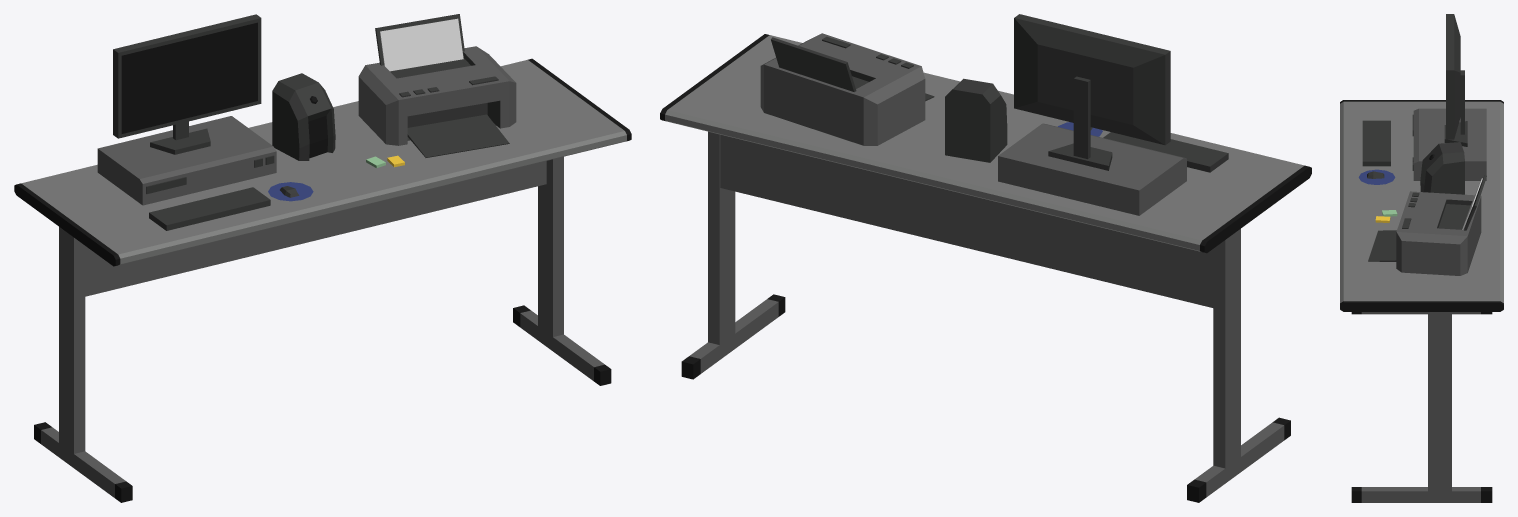
The model's file is DetentionDesk.glb.
3 views of the same model, side by side, from view 1: azimuth 30°, elevation 25°; view 2: azimuth 150°, elevation 25°; view 3: azimuth 270°, elevation 25° (orthographic). The views are drawn at different scales.
Visible parts, largest first — view 1: DetentionDesk; view 2: DetentionDesk; view 3: DetentionDesk.
Part boxes in pixels (x1,y1,x2,y2): DetentionDesk: [14, 14, 631, 502]; DetentionDesk: [660, 14, 1311, 502]; DetentionDesk: [1340, 14, 1503, 502].
Size of the model in its own units: 1.84 by 1.34 by 0.6263.
1 material, 1 textured.
